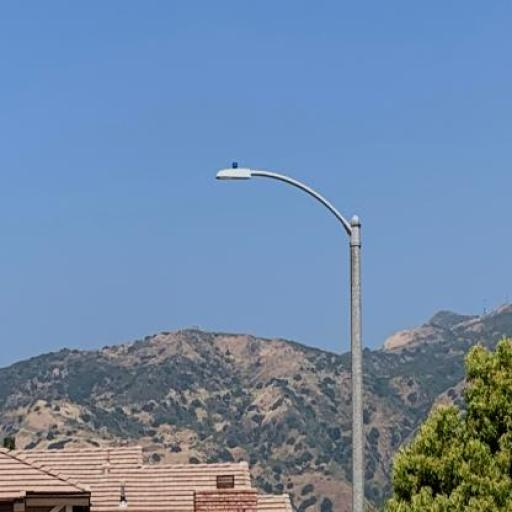street light: (215, 164, 371, 510)
